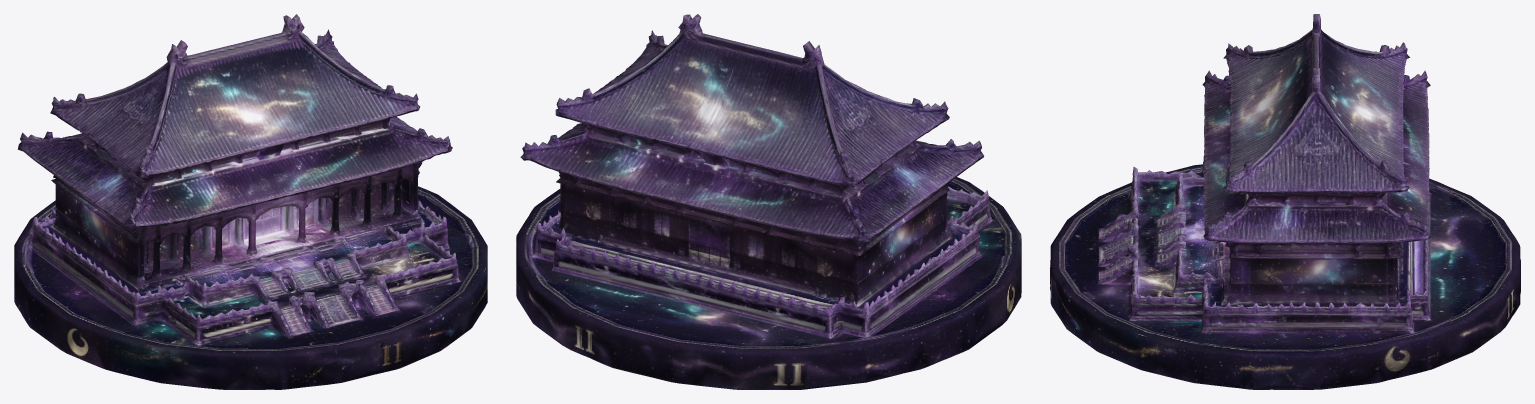
File: forbidden_city_celestial.glb
3 renders of one model, left to right at view 1: azimuth 30°, elevation 25°; view 2: azimuth 150°, elevation 25°; view 3: azimuth 270°, elevation 25°, orthographic. The views are drawn at different scales.
Parts seen in each view (by area): view 1: Mesh_0; view 2: Mesh_0; view 3: Mesh_0.
Boxes of the visible parts, left/top/right/bottom form: Mesh_0: left=14, top=14, right=487, bottom=389; Mesh_0: left=516, top=14, right=1021, bottom=389; Mesh_0: left=1050, top=14, right=1520, bottom=389.
Bounding box in the file's own units: 1.91 × 1.11 × 1.91.
1 material, 1 textured.
